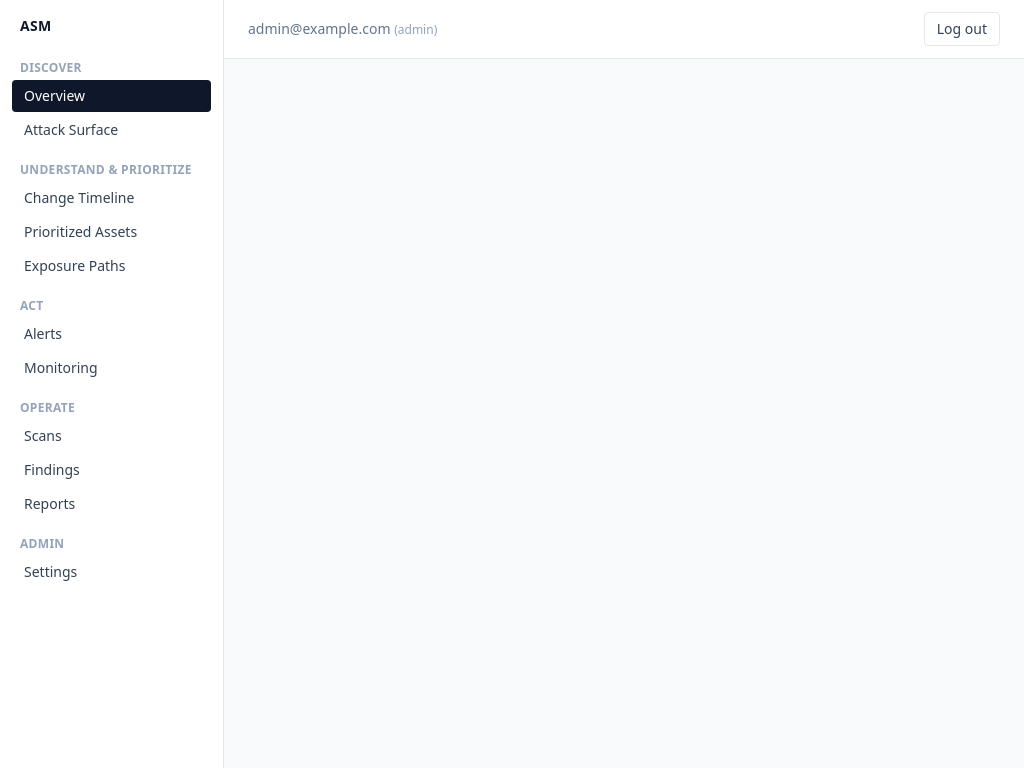
Scenario: AppShell › logs out on click and surfaces a failure instead of crashing
This screenshot has width=1024, height=768.
Click the button "Log out" at x=962, y=29, box 924,12 -> 1000,46
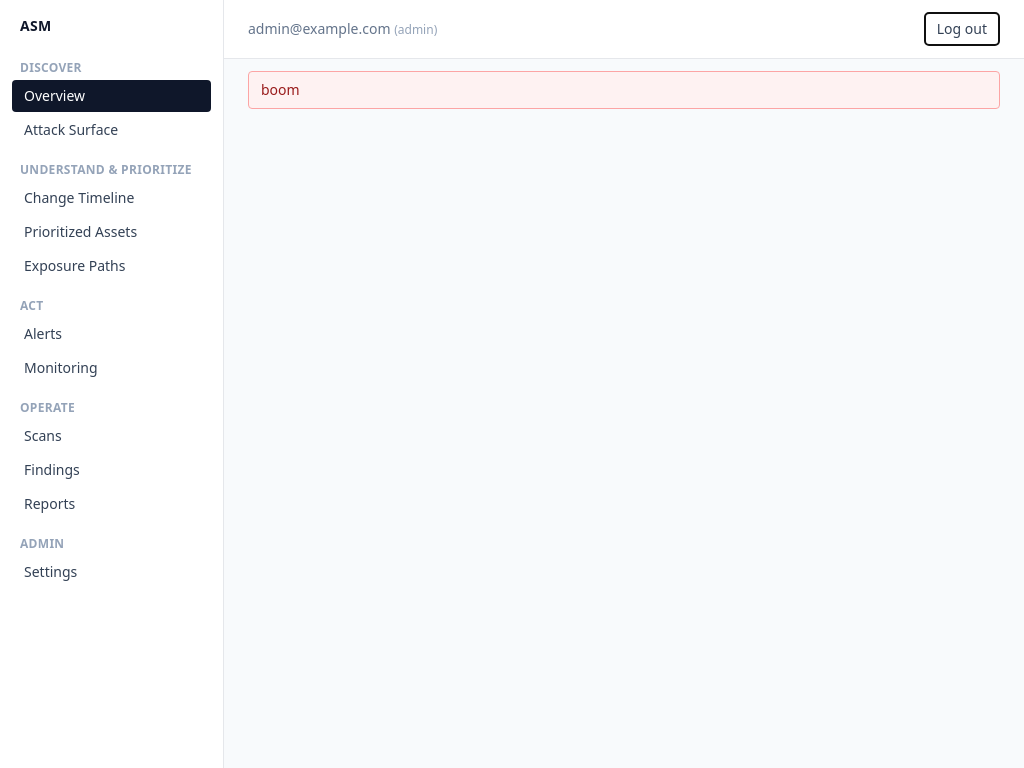
Expected: the message "boom" is shown, 248,71 -> 1000,109
